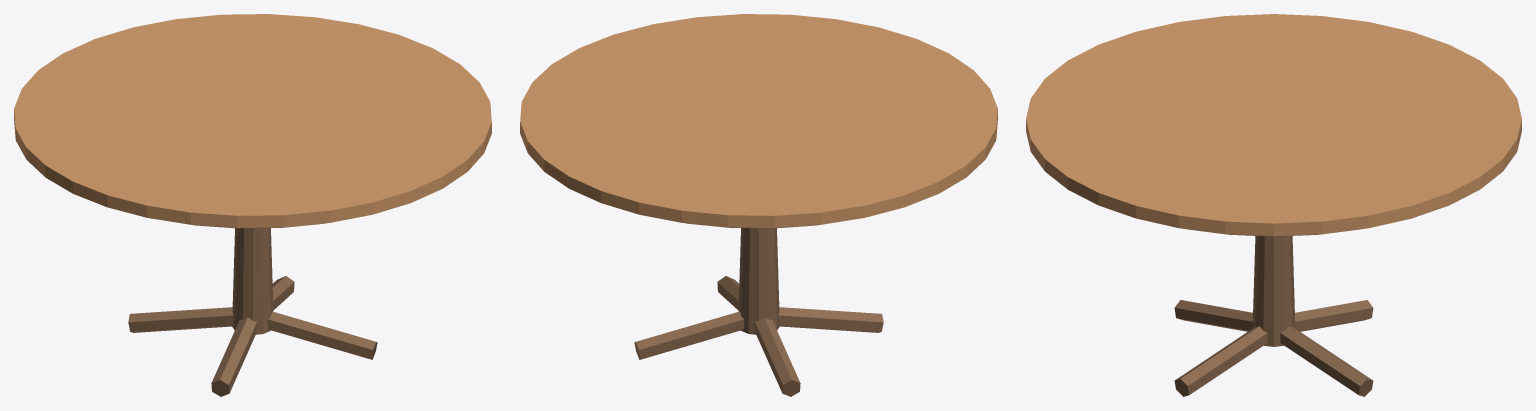
File: table-round.glb
3 views of the same model, side by side, from view 1: azimuth 30°, elevation 25°; view 2: azimuth 150°, elevation 25°; view 3: azimuth 270°, elevation 25° (orthographic). The views are drawn at different scales.
Parts seen in each view (by area): view 1: table-round; view 2: table-round; view 3: table-round.
Boxes of the visible parts, x1,y1,x2,y2 form: table-round: (14, 14, 491, 396); table-round: (520, 14, 997, 396); table-round: (1026, 14, 1521, 396).
Size of the model in its own units: 1.6 by 0.8539 by 1.6.
